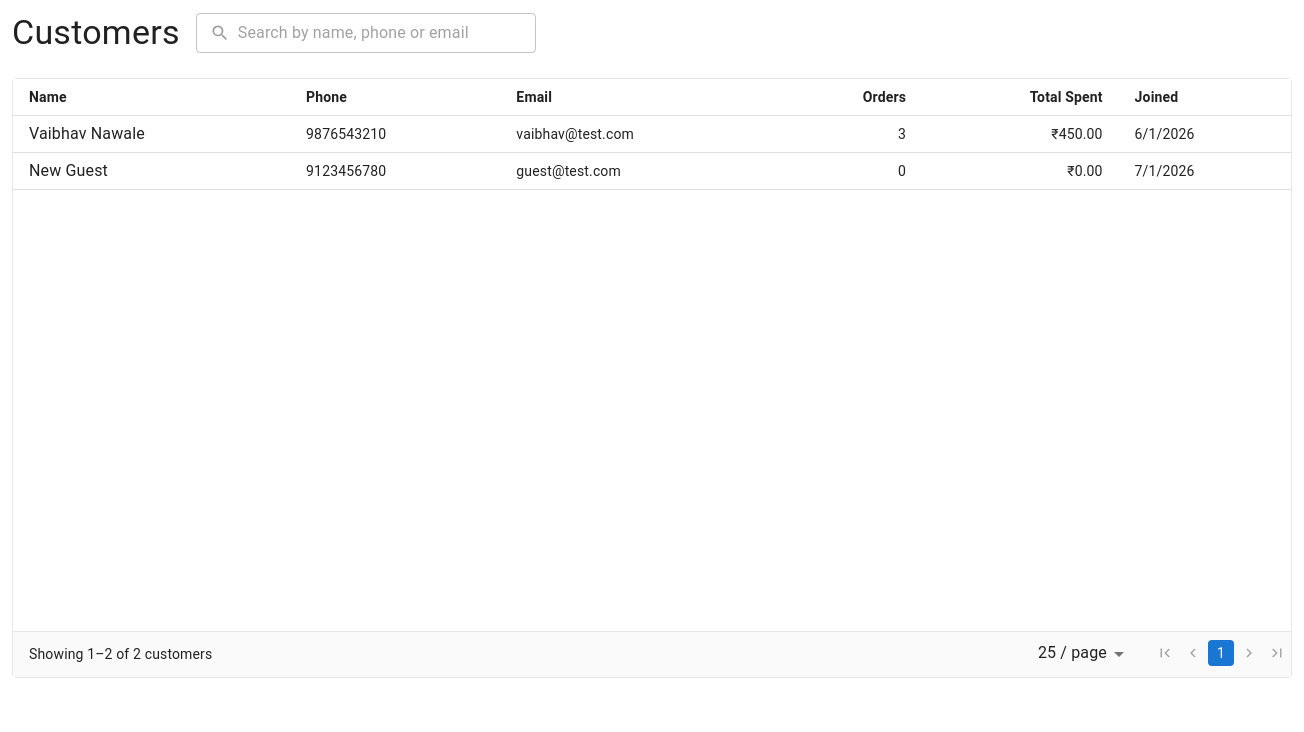
Test: Customers - list and search › filters by name, phone, or email (debounced, server-side)
The width and height of the screenshot is (1304, 732).
Expected: the text "Vaibhav Nawale" is shown, [29,124,145,143]
Type "9123456780" into the field with placeholder "Search by name, phone or email" at (387, 33), box [238,13,536,53]
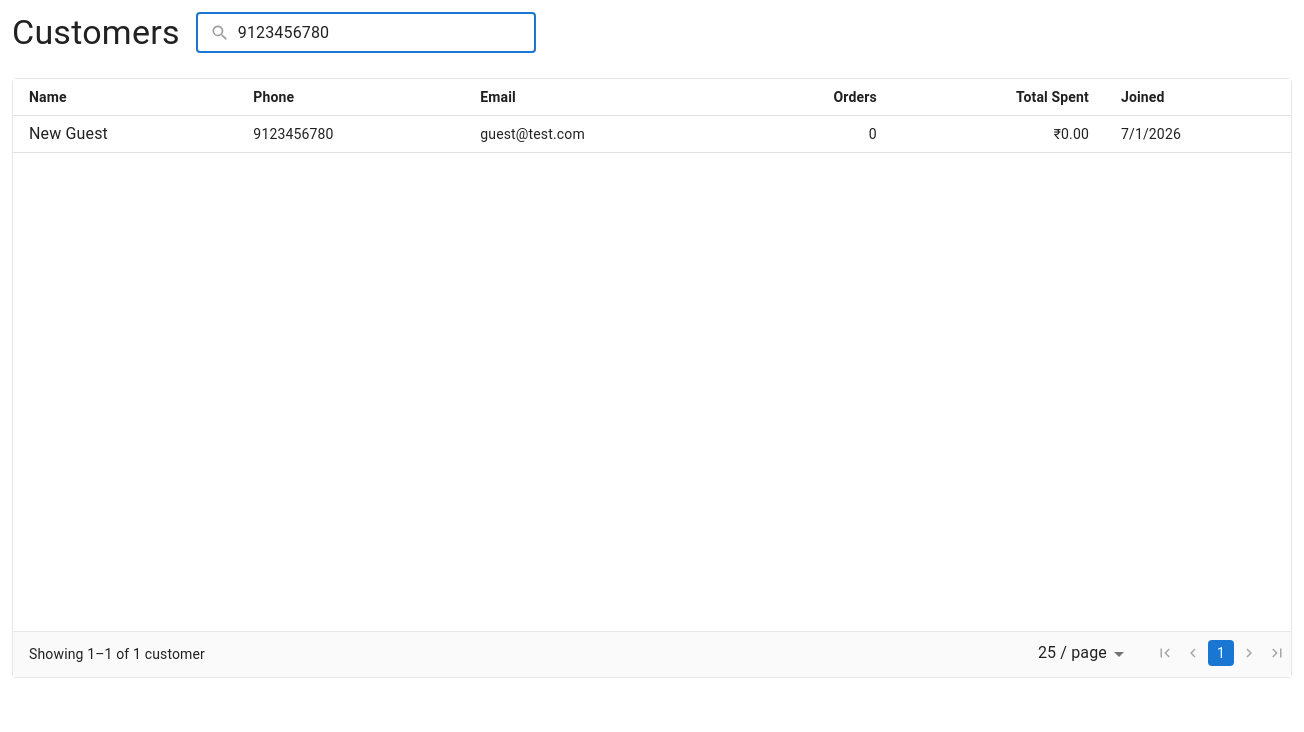
Expected: the text "New Guest" is shown, [29,124,108,143]
Result: the text "Vaibhav Nawale" is gone
